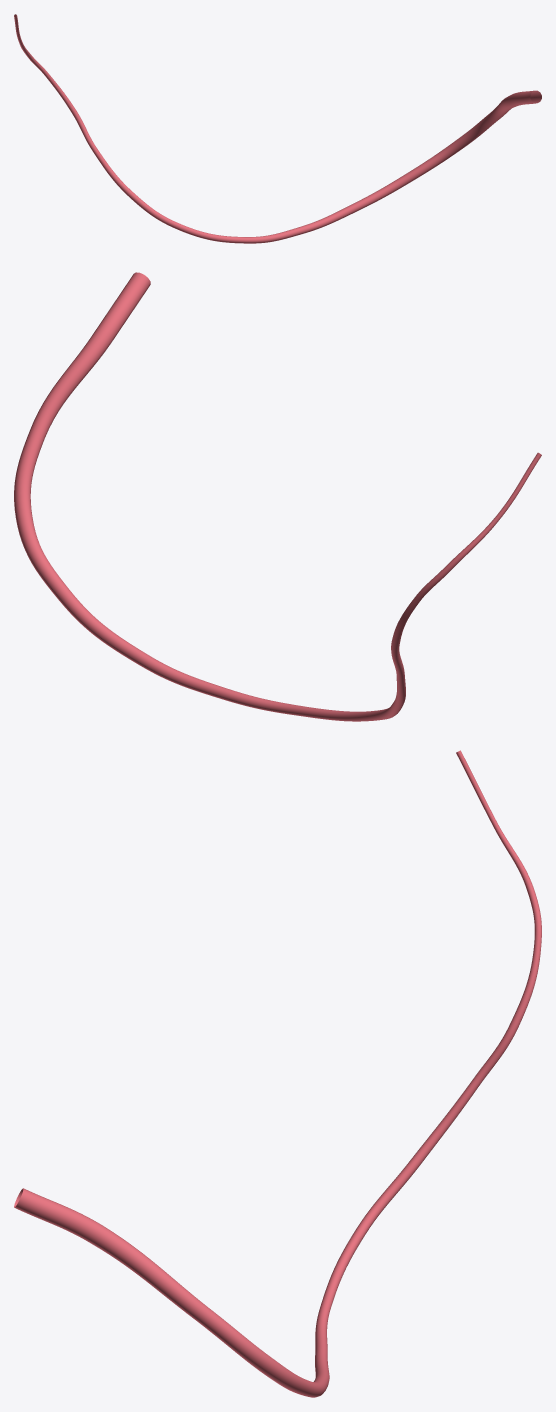
3 renders of one model, top to bottom at view 1: azimuth 30°, elevation 25°; view 2: azimuth 150°, elevation 25°; view 3: azimuth 270°, elevation 25°, orthographic. The views are drawn at different scales.
Parts seen in each view (by area): view 1: ZA_d053ffd45e3c898c; view 2: ZA_d053ffd45e3c898c; view 3: ZA_d053ffd45e3c898c.
Part boxes in pixels (left/top/right/bottom): ZA_d053ffd45e3c898c: left=14, top=14, right=541, bottom=243; ZA_d053ffd45e3c898c: left=14, top=272, right=541, bottom=721; ZA_d053ffd45e3c898c: left=14, top=750, right=541, bottom=1397.
Bounding box in the file's own units: 0.0434 × 0.0254 × 0.0293.
